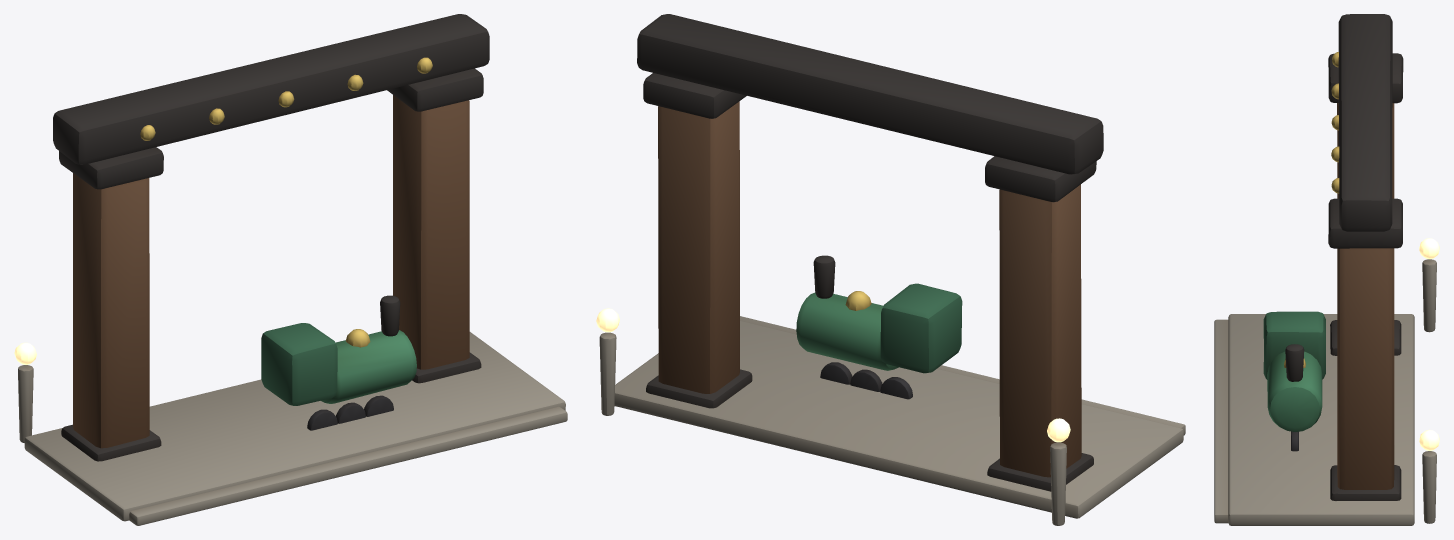
3 renders of one model, left to right at view 1: azimuth 30°, elevation 25°; view 2: azimuth 150°, elevation 25°; view 3: azimuth 270°, elevation 25°, orthographic. The views are drawn at different scales.
Parts seen in each view (by area): view 1: gate_05b3e4c8; view 2: gate_05b3e4c8; view 3: gate_05b3e4c8.
Boxes of the visible parts, x1,y1,x2,y2 form: gate_05b3e4c8: [14, 14, 567, 525]; gate_05b3e4c8: [596, 14, 1185, 525]; gate_05b3e4c8: [1214, 14, 1439, 525].
Bounding box in the file's own units: 5.38 × 4.01 × 2.54.
